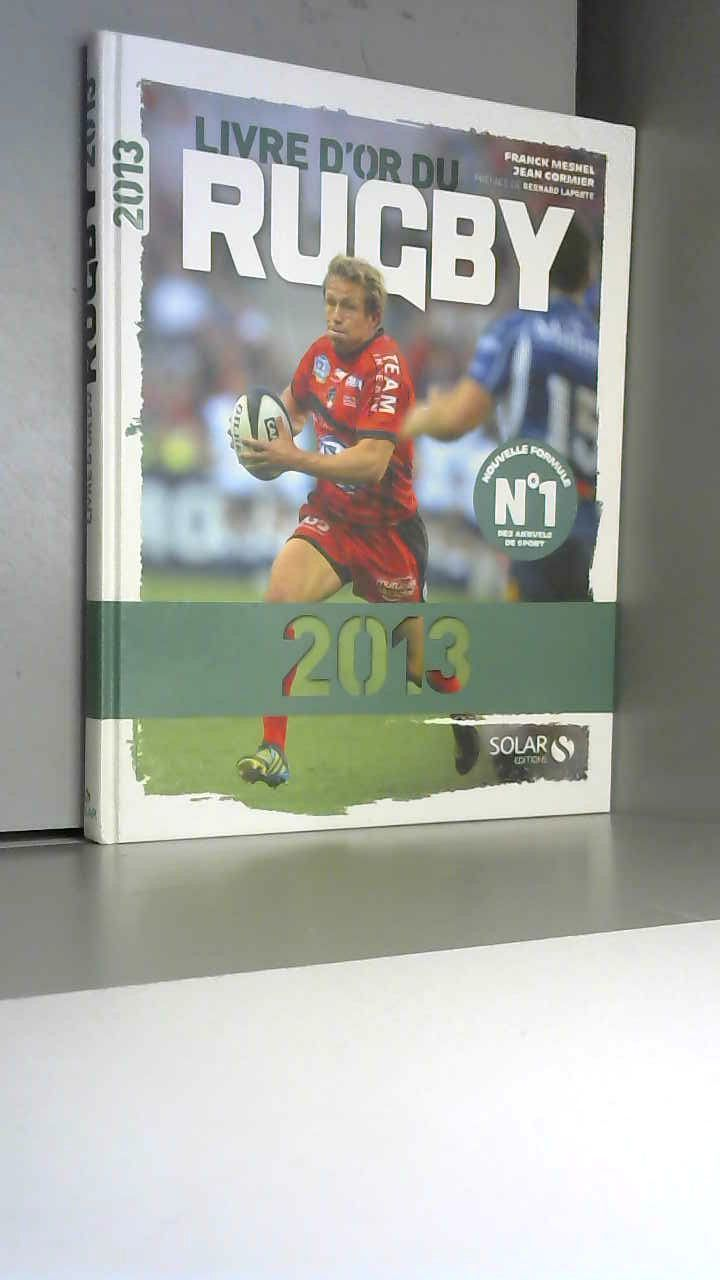book: (50, 0, 720, 935)
